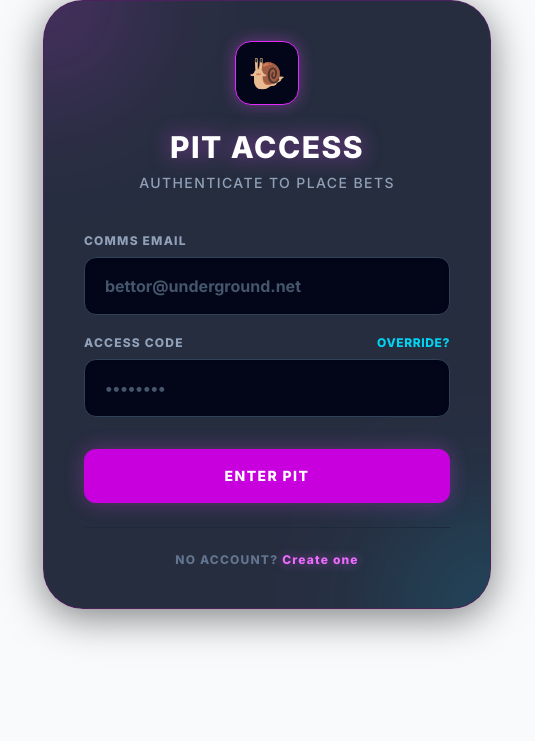
Test: LoginForm › displays error message on login failure
Type "test@example.com" into the field labelled "Comms Email". click: coordinates (267, 286)
box: [84,257,450,315]
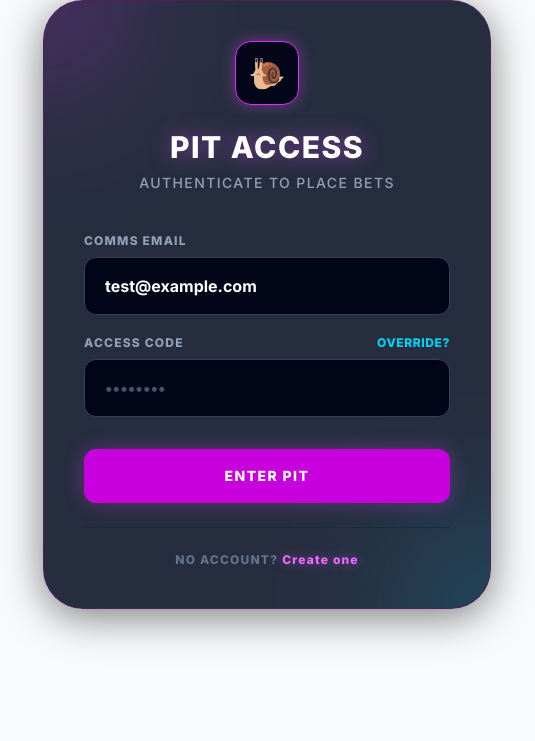
Type "password123" into the password field labelled "Access Code". click: coordinates (267, 388)
box: [84,359,450,417]
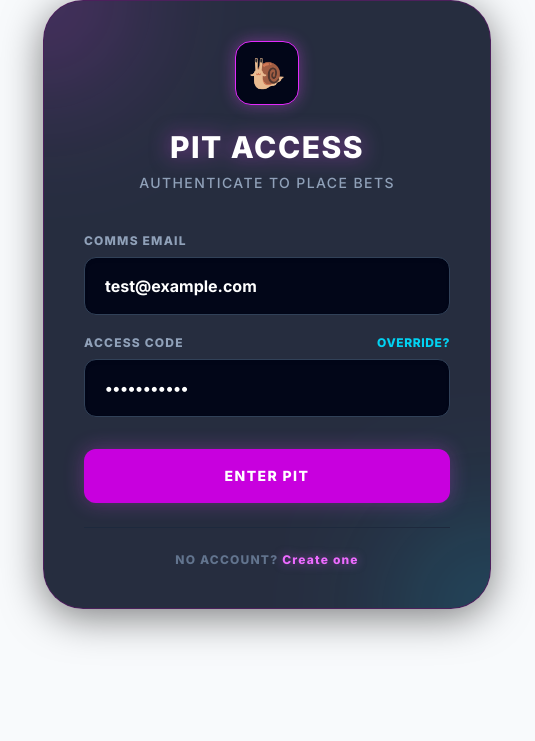
Click the button "Enter Pit". click: coordinates (267, 476)
box: [84,449,450,503]
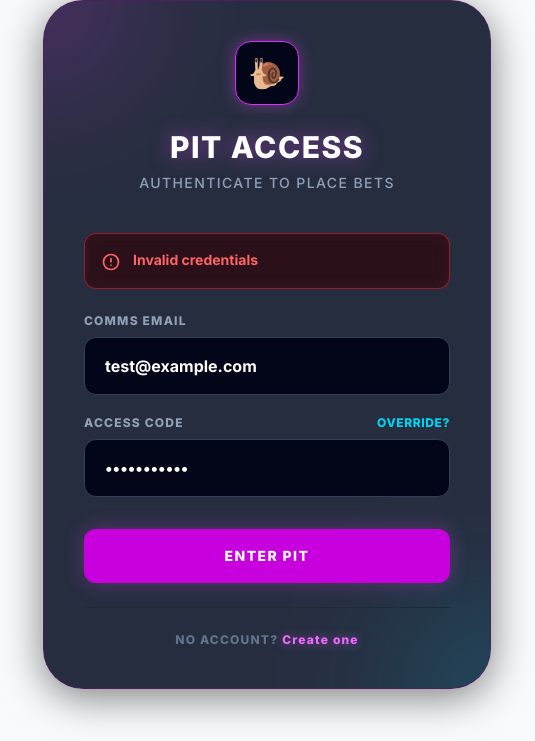
Expected: the text "Invalid credentials" is shown, [133,250,258,270]
